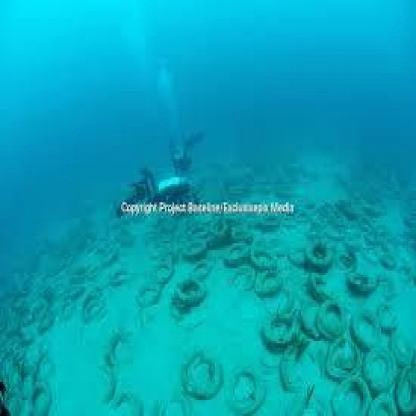tire: (310, 296, 359, 350), (248, 225, 288, 291), (187, 341, 227, 396), (302, 234, 344, 277), (346, 271, 390, 309), (174, 266, 210, 311), (184, 234, 212, 266)
